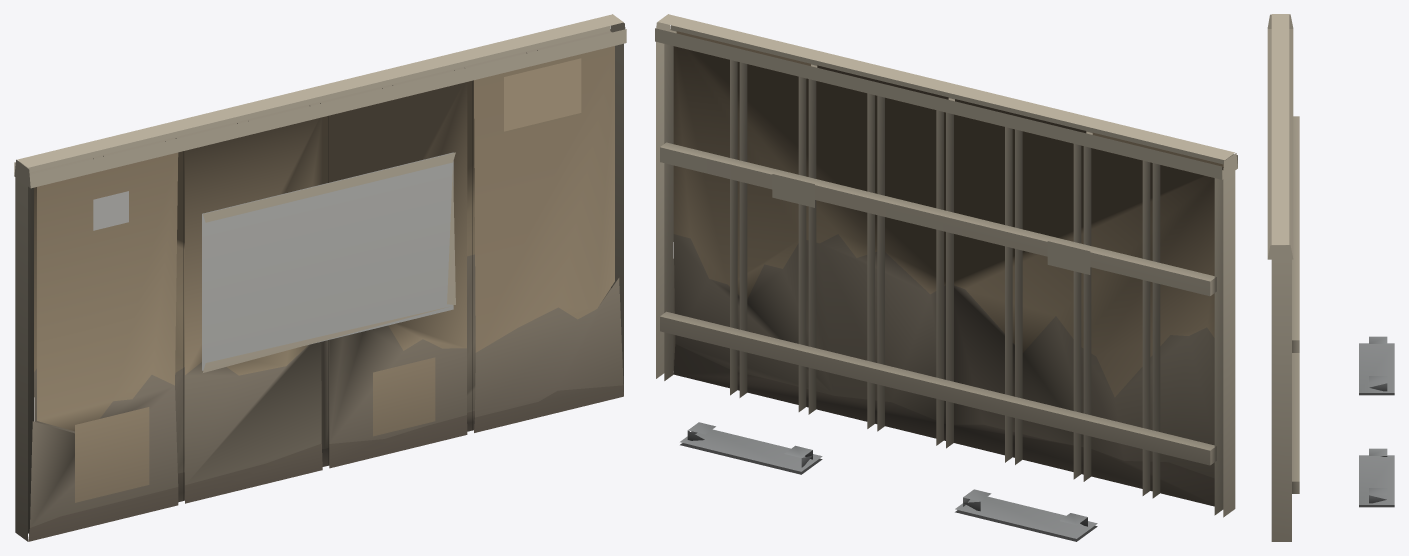
File: hoarding.lod.glb
3 views of the same model, side by side, from view 1: azimuth 30°, elevation 25°; view 2: azimuth 150°, elevation 25°; view 3: azimuth 270°, elevation 25° (orthographic). The views are drawn at different scales.
Visible parts, largest first — view 1: hoarding; view 2: hoarding; view 3: hoarding.
Part boxes in pixels (box(x1,y1,x2,y2)): hoarding: box(14, 14, 626, 541); hoarding: box(655, 14, 1237, 541); hoarding: box(1267, 14, 1394, 541).
Size of the model in its own units: 4 by 2.4 by 0.938.
